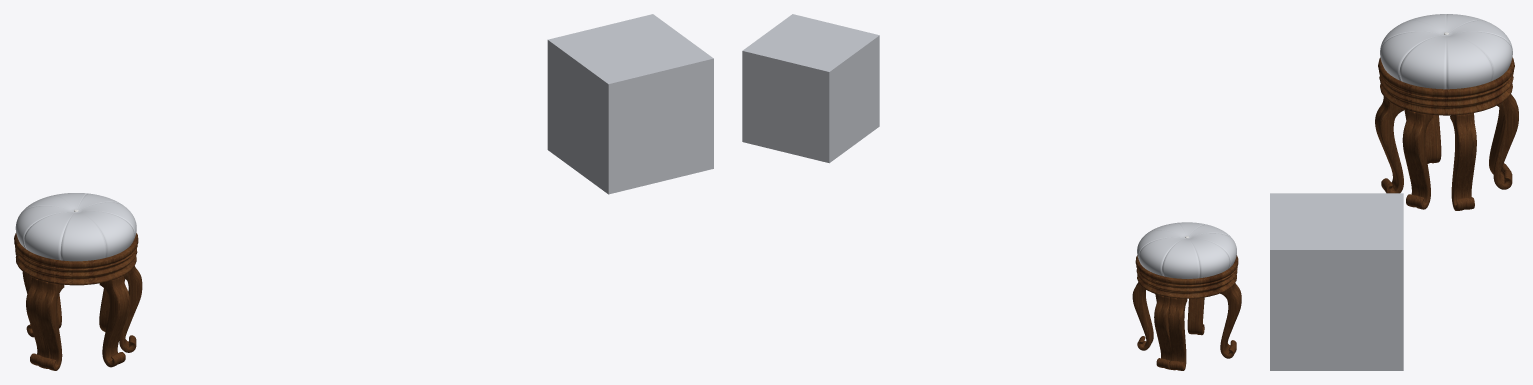
Rendered from tabure3.glb.
3 views of the same model, side by side, from view 1: azimuth 30°, elevation 25°; view 2: azimuth 150°, elevation 25°; view 3: azimuth 270°, elevation 25° (orthographic). The views are drawn at different scales.
Visible parts, largest first — view 1: Cube.003, cusion, base, leg44, leg31, leg41, leg33; view 2: Cube.003, cusion, base, leg42, leg32, leg41, leg43, leg44; view 3: Cube.003, cusion, base, leg33, leg43, leg44, leg32, leg41, leg42.
Part boxes in pixels (box(x1,y1,x2,y2)): Cube.003: box(547, 14, 713, 194); cusion: box(15, 193, 136, 261); base: box(14, 233, 138, 285); leg44: box(99, 275, 129, 367); leg31: box(37, 280, 64, 370); leg41: box(26, 277, 50, 368); leg33: box(119, 266, 142, 352); Cube.003: box(742, 14, 879, 163); cusion: box(1137, 222, 1236, 278); base: box(1135, 255, 1238, 298); leg42: box(1168, 297, 1187, 370); leg32: box(1154, 295, 1172, 369); leg41: box(1220, 284, 1241, 358); leg43: box(1132, 282, 1153, 350); leg44: box(1187, 297, 1204, 335); Cube.003: box(1270, 193, 1403, 370); cusion: box(1380, 14, 1512, 89); base: box(1378, 57, 1514, 115); leg33: box(1402, 110, 1433, 209); leg43: box(1450, 113, 1476, 210); leg44: box(1375, 96, 1405, 193); leg32: box(1493, 94, 1518, 189); leg41: box(1426, 115, 1441, 163); leg42: box(1489, 94, 1516, 176).
Size of the model in its own units: 2.97 by 0.9898 by 0.9503.
5 materials, 2 textured.
